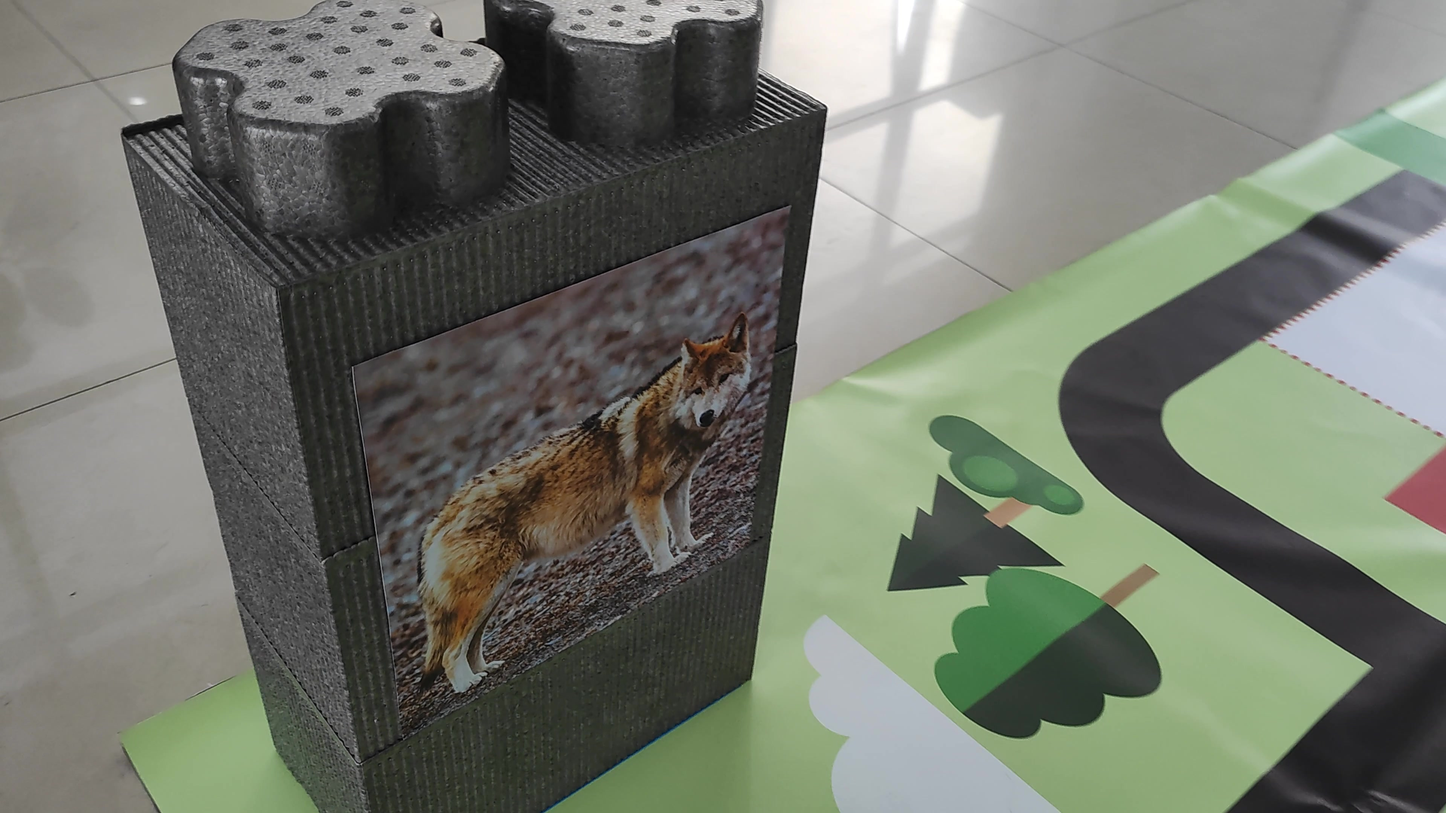wolf: (384, 305, 757, 711)
